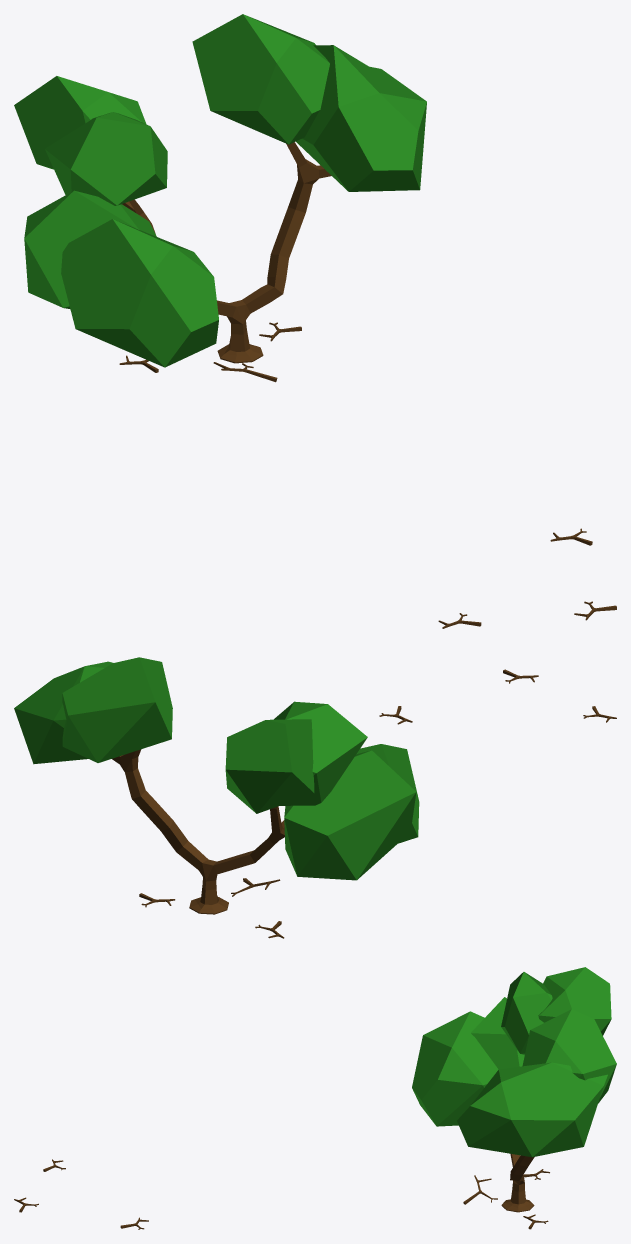
Rendered from arbre.obj.
3 views of the same model, one above another, from view 1: azimuth 30°, elevation 25°; view 2: azimuth 150°, elevation 25°; view 3: azimuth 270°, elevation 25° (orthographic). The views are drawn at different scales.
Visible parts, largest first — view 1: arbre2; view 2: arbre2; view 3: arbre2.
Part boxes in pixels (box(x1,y1,x2,y2)): arbre2: box(14, 14, 616, 628); arbre2: box(14, 657, 616, 938); arbre2: box(14, 967, 616, 1229).
Size of the model in its own units: 13.11 by 9.23 by 23.93.
